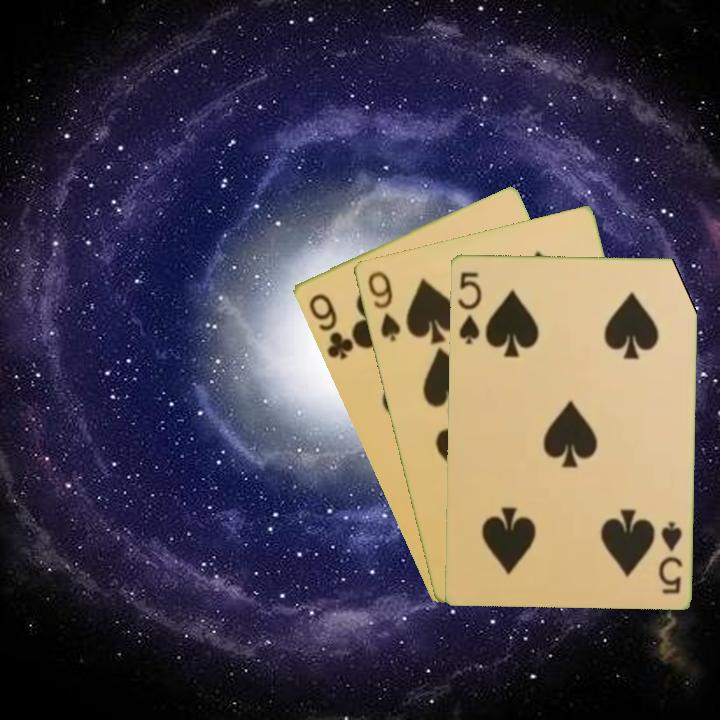5s: (454, 268, 484, 347), (654, 518, 684, 597)
9c: (304, 289, 356, 363)
9s: (363, 267, 403, 345)
